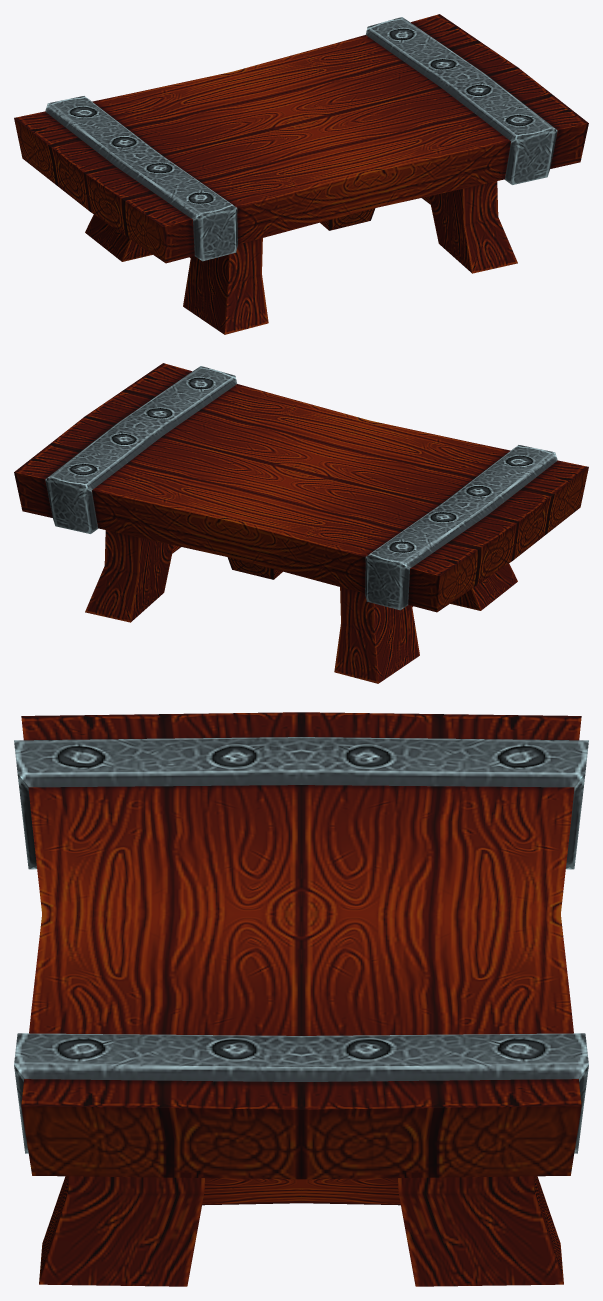
The picture shows the model from 3 angles, top to bottom: view 1: azimuth 30°, elevation 25°; view 2: azimuth 150°, elevation 25°; view 3: azimuth 270°, elevation 25°; orthographic projection. The views are drawn at different scales.
Visible parts, largest first — view 1: Table; view 2: Table; view 3: Table.
Boxes of the visible parts, <box> form: Table: <box>14,14,588,334</box>; Table: <box>14,363,588,683</box>; Table: <box>14,712,588,1286</box>.
Bounding box in the file's own units: 160 × 46.39 × 97.62.
1 material, 1 textured.
